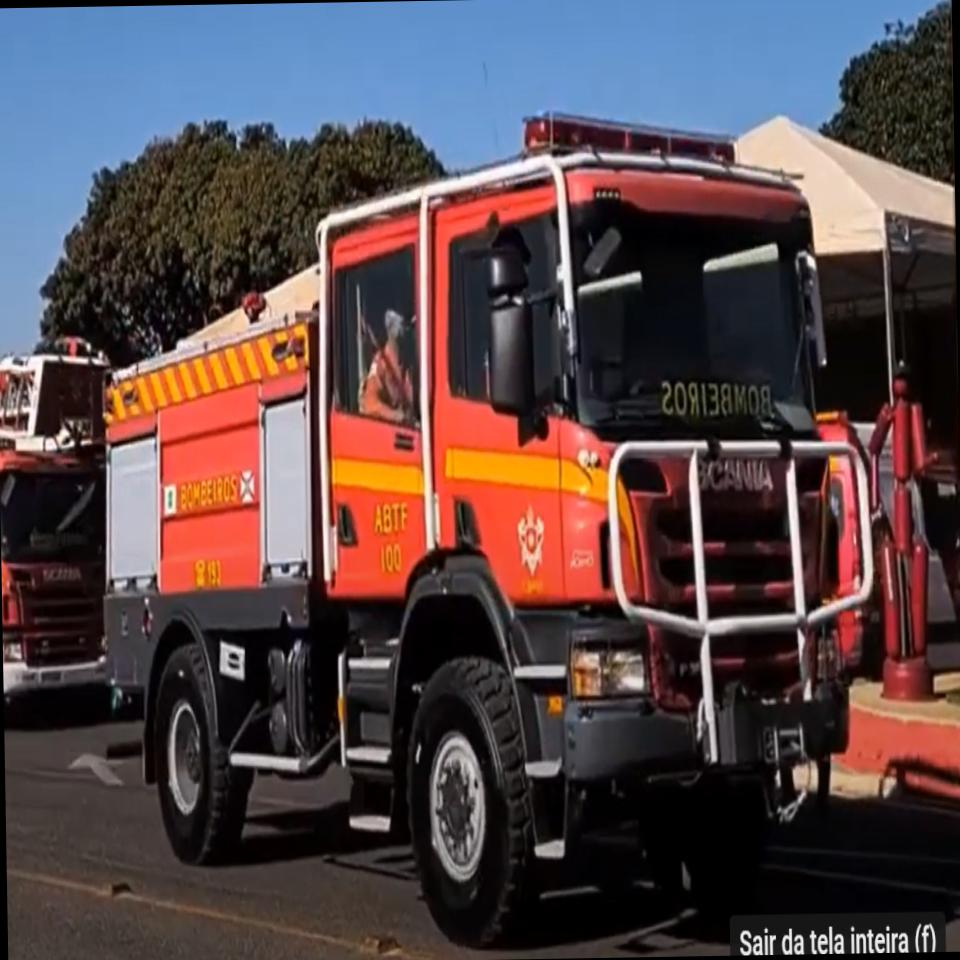viatura: (94, 109, 882, 952), (0, 334, 117, 723)
